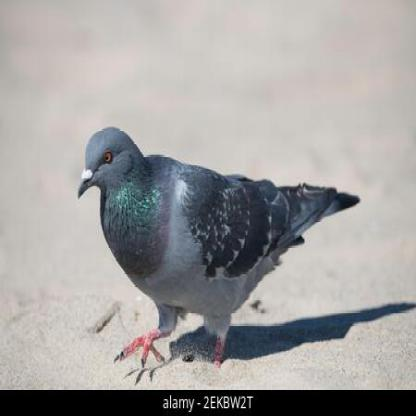Rock Pigeon: (80, 126, 354, 352)
